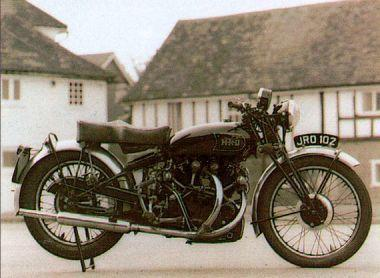motorcycle: (5, 84, 376, 277)
